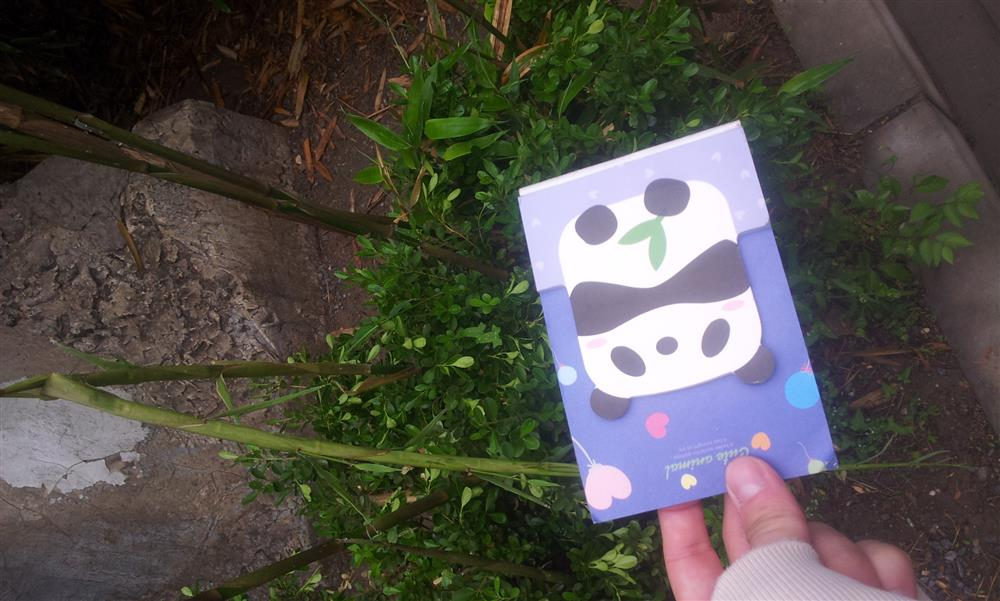panda_book: (509, 131, 839, 522)
